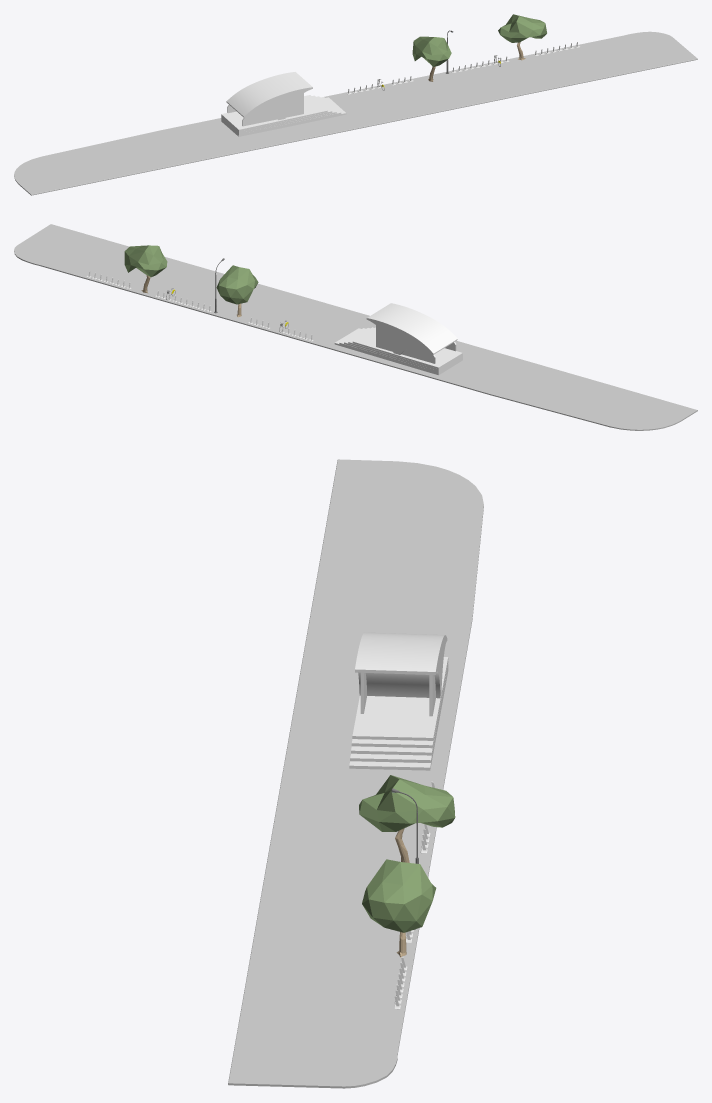
The model's file is dongmen-runout.gltf.
The picture shows the model from 3 angles, top to bottom: view 1: azimuth 30°, elevation 25°; view 2: azimuth 150°, elevation 25°; view 3: azimuth 270°, elevation 25°; orthographic projection. The views are drawn at different scales.
Visible parts, largest first — view 1: Brep (×4), Mesh2 Icosphere_4_1 skp5771_1 Model (×2); view 2: Brep (×4), Mesh2 Icosphere_4_1 skp5771_1 Model (×2); view 3: Brep (×3), Mesh2 Icosphere_4_1 skp5771_1 Model (×2).
Boxes of the visible parts, bbox=[...] form: Brep (×4): bbox=[14, 31, 697, 195]; Mesh2 Icosphere_4_1 skp5771_1 Model (×2): bbox=[412, 14, 546, 66]; Brep (×4): bbox=[14, 224, 697, 430]; Mesh2 Icosphere_4_1 skp5771_1 Model (×2): bbox=[124, 245, 258, 304]; Brep (×3): bbox=[228, 459, 483, 1088]; Mesh2 Icosphere_4_1 skp5771_1 Model (×2): bbox=[359, 775, 455, 932].
Bounding box in the file's own units: 67.86 × 4.9 × 11.7.
